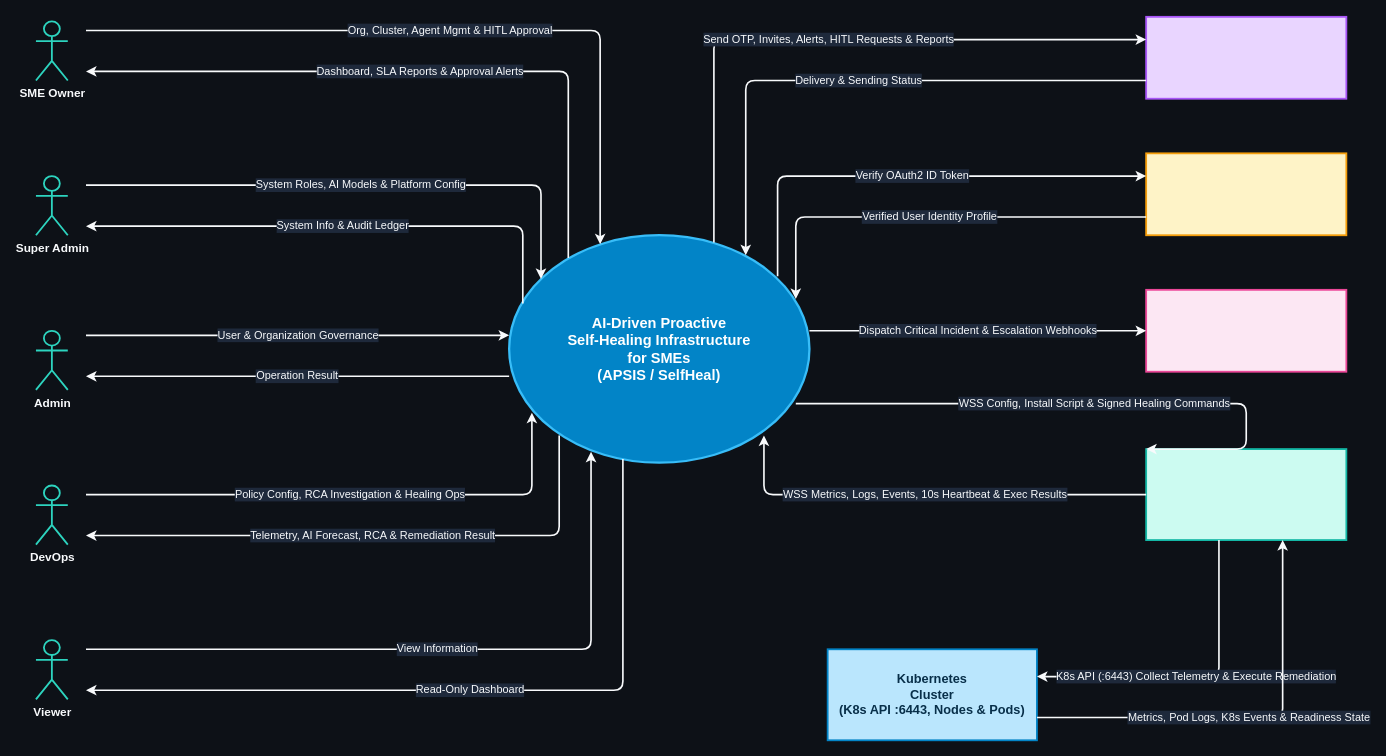
Some shapes in this 1386 by 756 pixel diagram are drawn without their labels. The centre of each missing label's shape, as x and y in pixels:
Email Service (Resend / SMTP): pixel 1246 57
Google OAuth 2.0 (Identity Provider / SSO): pixel 1246 194
Kubernetes Edge Agent (Python 3.11 Pod / DaemonSet): pixel 1246 494
On-Call Alerting (Slack Webhook & PagerDuty): pixel 1246 330
